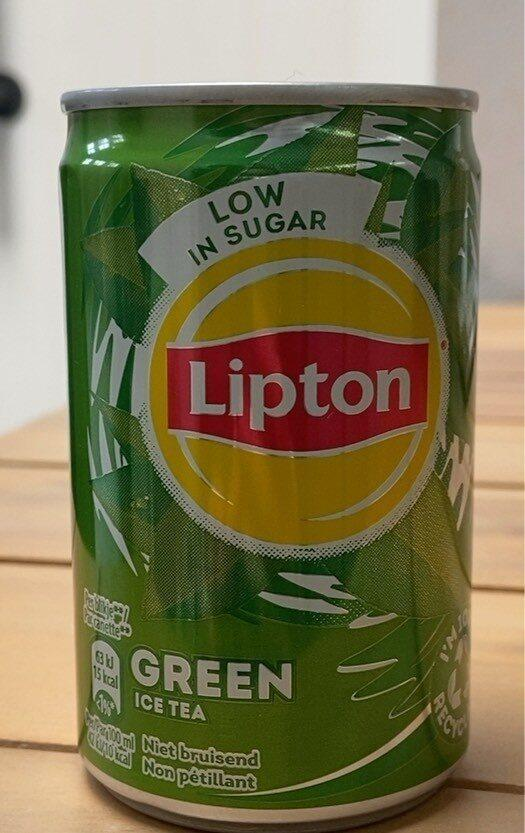metal: (46, 81, 494, 829)
